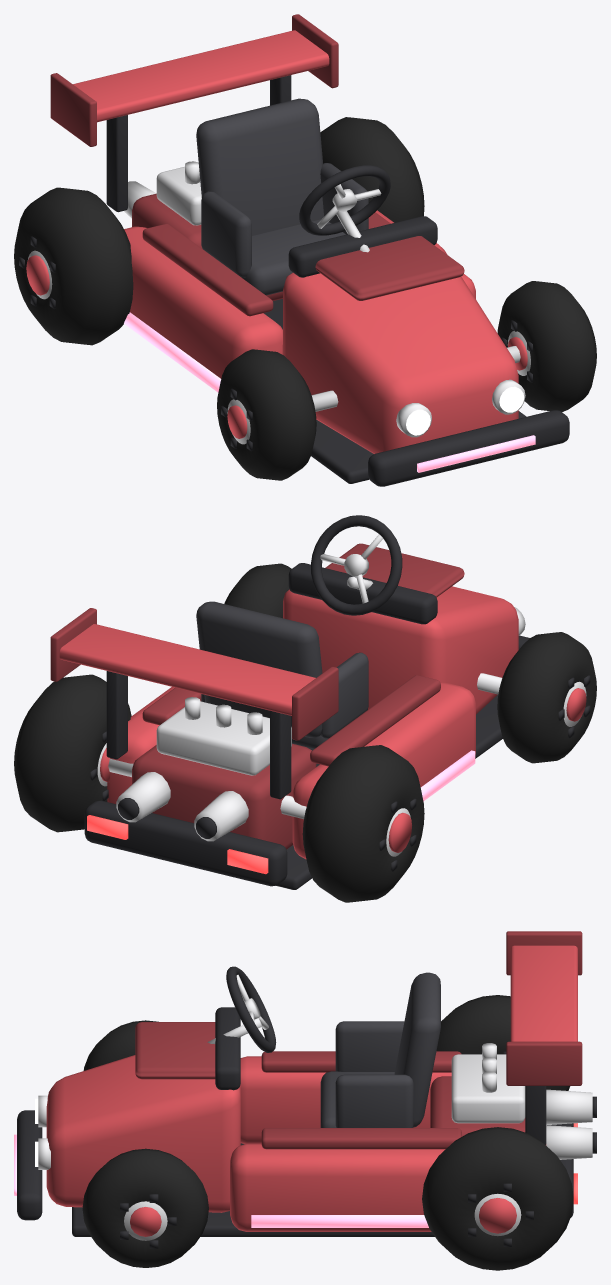
File: kart.glb
3 views of the same model, one above another, from view 1: azimuth 30°, elevation 25°; view 2: azimuth 150°, elevation 25°; view 3: azimuth 270°, elevation 25° (orthographic). The views are drawn at different scales.
Parts seen in each view (by area): view 1: kart_body, wiel_la, wiel_lv, wiel_rv, wiel_ra; view 2: kart_body, wiel_la, wiel_ra, wiel_lv, wiel_rv; view 3: kart_body, wiel_ra, wiel_rv, wiel_la, wiel_lv.
Part boxes in pixels (left/top/right/bottom): kart_body: left=50, top=14, right=569, bottom=486; wiel_la: left=14, top=187, right=133, bottom=345; wiel_lv: left=217, top=349, right=316, bottom=480; wiel_rv: left=497, top=281, right=596, bottom=411; wiel_ra: left=320, top=117, right=424, bottom=222; kart_body: left=50, top=515, right=529, bottom=889; wiel_la: left=302, top=745, right=424, bottom=902; wiel_ra: left=14, top=674, right=131, bottom=832; wiel_lv: left=497, top=632, right=596, bottom=763; wiel_rv: left=224, top=563, right=291, bottom=618; kart_body: left=14, top=931, right=596, bottom=1236; wiel_ra: left=422, top=1127, right=573, bottom=1270; wiel_rv: left=82, top=1148, right=208, bottom=1267; wiel_la: left=436, top=995, right=570, bottom=1090; wiel_lv: left=83, top=1020, right=158, bottom=1070.
Size of the model in its own units: 1.88 by 1.19 by 2.76.
